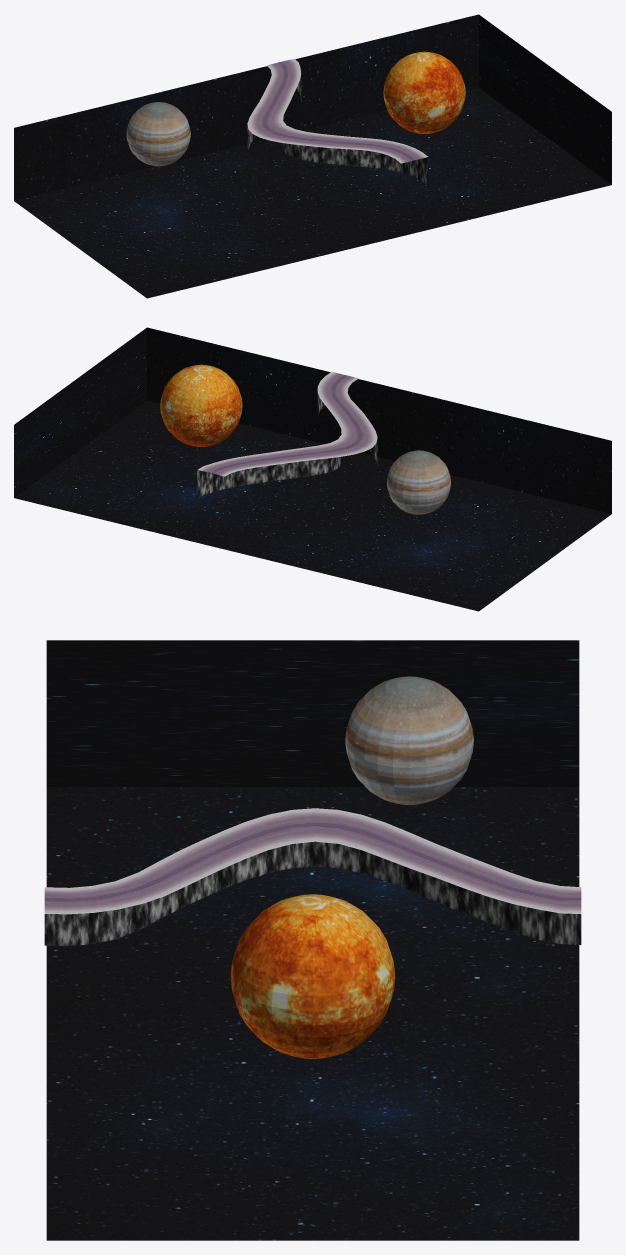
The model's file is world_4.glb.
The picture shows the model from 3 angles, top to bottom: view 1: azimuth 30°, elevation 25°; view 2: azimuth 150°, elevation 25°; view 3: azimuth 270°, elevation 25°; orthographic projection. The views are drawn at different scales.
Parts seen in each view (by area): view 1: SpaceBox, SunGlobe, Road, SaturnGlobe, RoadSide; view 2: SpaceBox, SunGlobe, Road, SaturnGlobe, RoadSide; view 3: SpaceBox, SunGlobe, Road, RoadSide, SaturnGlobe.
Boxes of the visible parts, x1=… form: SpaceBox: x1=14, y1=14, x2=611, y2=298; SunGlobe: x1=383, y1=51, x2=465, y2=133; Road: x1=247, y1=58, x2=427, y2=163; SaturnGlobe: x1=126, y1=102, x2=190, y2=166; RoadSide: x1=247, y1=74, x2=428, y2=185; SpaceBox: x1=14, y1=327, x2=611, y2=611; SunGlobe: x1=160, y1=364, x2=242, y2=446; Road: x1=198, y1=372, x2=377, y2=476; SaturnGlobe: x1=386, y1=450, x2=451, y2=514; RoadSide: x1=197, y1=393, x2=377, y2=498; SpaceBox: x1=46, y1=640, x2=579, y2=1240; SunGlobe: x1=230, y1=894, x2=395, y2=1058; Road: x1=44, y1=808, x2=581, y2=914; RoadSide: x1=44, y1=841, x2=581, y2=945; SaturnGlobe: x1=345, y1=676, x2=473, y2=804.
Size of what is drawn, in the model's own units: 100 by 22.68 by 50.
Materials: 5 (5 with a texture image).
